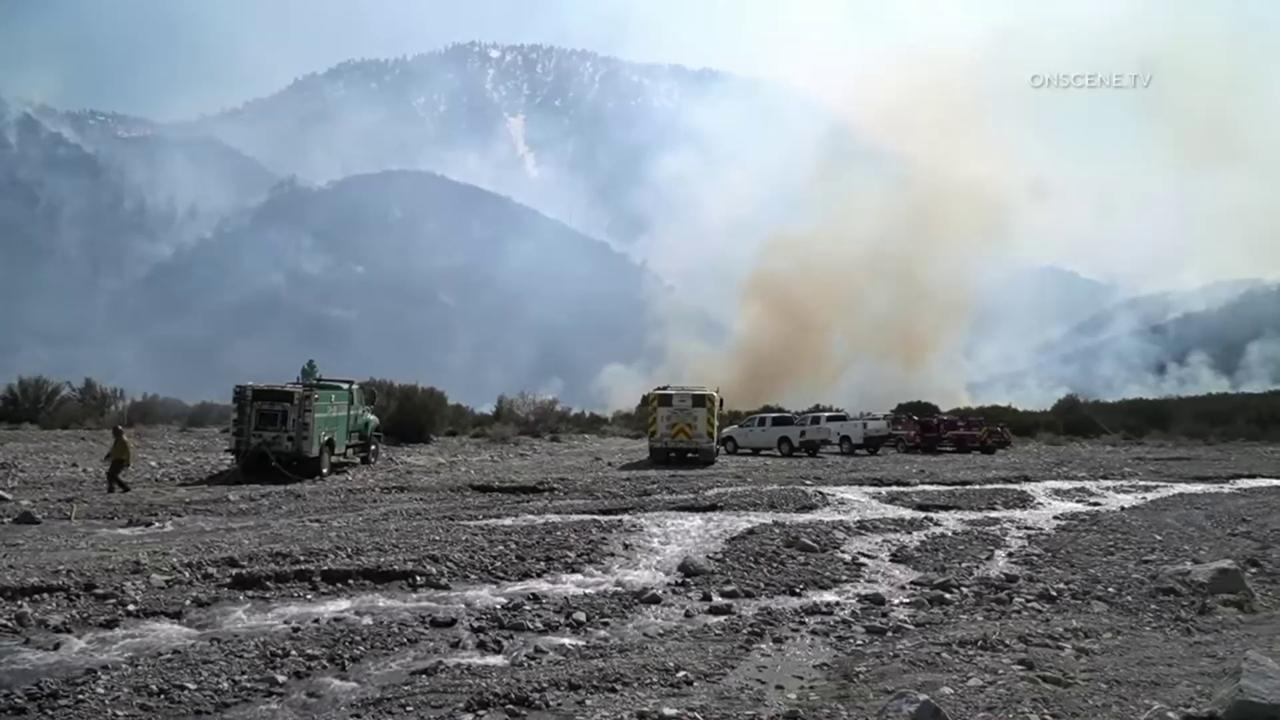smoke: (0, 0, 1280, 419)
